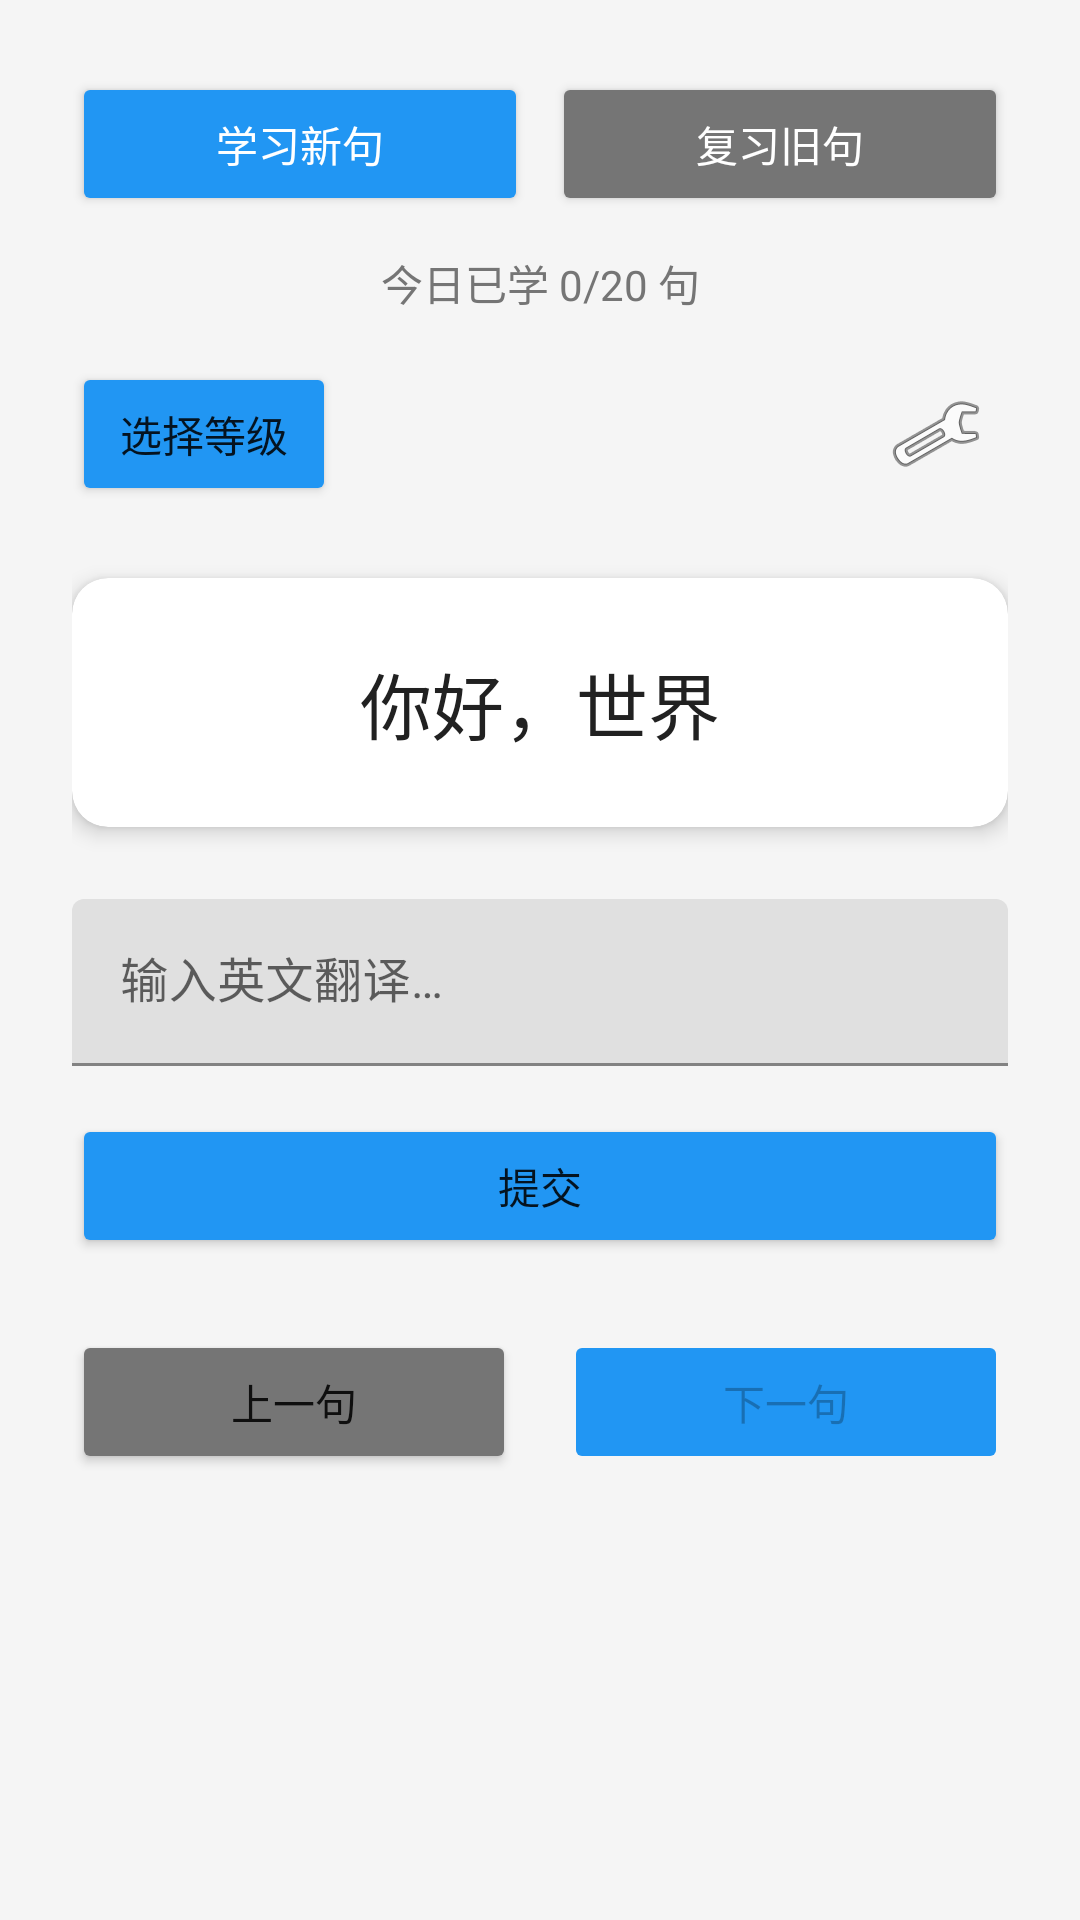

Icons on this 1080×1920 Android screen, each with its box as (x1, y1, x2, y2):
preferences: (893, 401, 979, 467)
